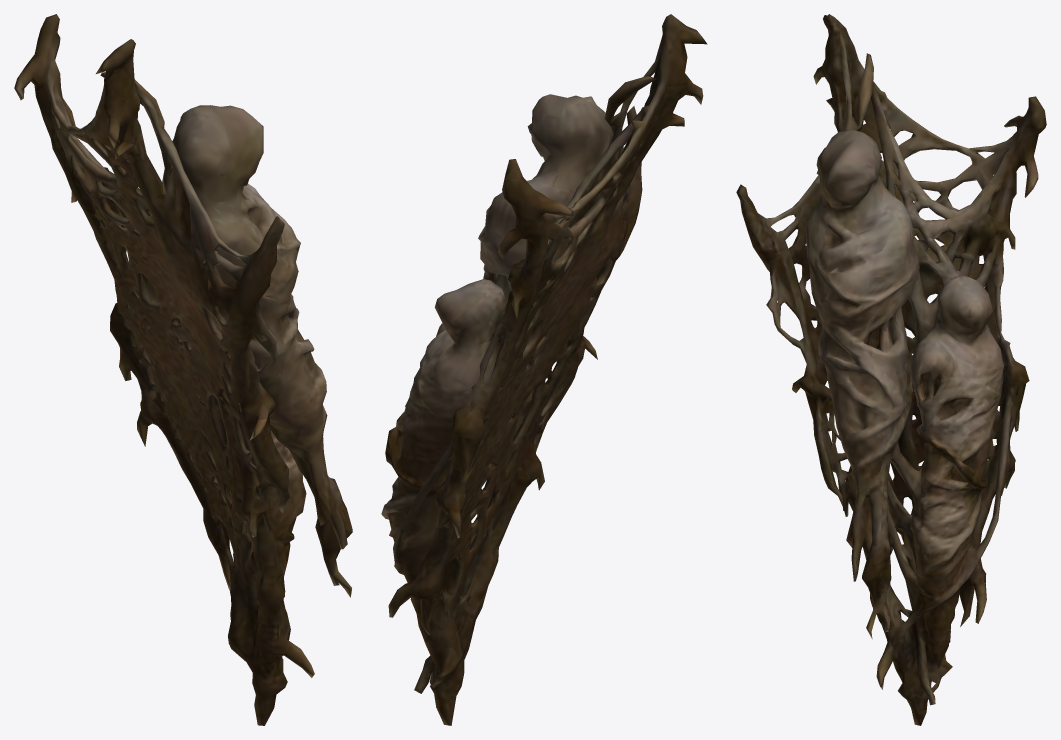
Rendered from cocooned-remains-web-mass.glb.
3 views of the same model, side by side, from view 1: azimuth 30°, elevation 25°; view 2: azimuth 150°, elevation 25°; view 3: azimuth 270°, elevation 25° (orthographic). The views are drawn at different scales.
Visible parts, largest first — view 1: tripo_node_72f6cc59-b635-4837-8330-ccf87800d18d; view 2: tripo_node_72f6cc59-b635-4837-8330-ccf87800d18d; view 3: tripo_node_72f6cc59-b635-4837-8330-ccf87800d18d.
Part boxes in pixels (left/top/right/bottom): tripo_node_72f6cc59-b635-4837-8330-ccf87800d18d: left=14, top=14, right=352, bottom=725; tripo_node_72f6cc59-b635-4837-8330-ccf87800d18d: left=381, top=14, right=707, bottom=725; tripo_node_72f6cc59-b635-4837-8330-ccf87800d18d: left=736, top=14, right=1046, bottom=725.
Size of the model in its own units: 0.386 by 1 by 0.4422.
Materials: 1 (1 with a texture image).
